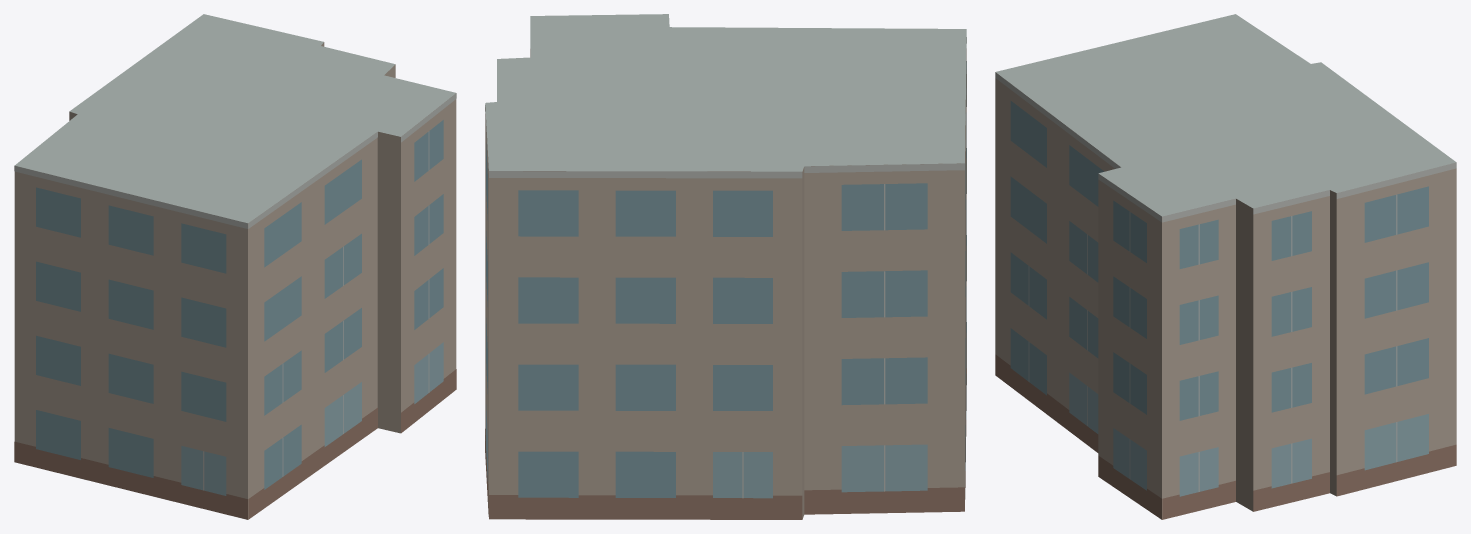
File: survey-upis-32981444.glb
The picture shows the model from 3 angles, left to right: view 1: azimuth 30°, elevation 25°; view 2: azimuth 150°, elevation 25°; view 3: azimuth 270°, elevation 25°; orthographic projection. The views are drawn at different scales.
Parts seen in each view (by area): view 1: survey-upis-32981444.tmp; view 2: survey-upis-32981444.tmp; view 3: survey-upis-32981444.tmp.
Part boxes in pixels (x1,y1,x2,y2): survey-upis-32981444.tmp: (14,14,456,519); survey-upis-32981444.tmp: (485,14,966,519); survey-upis-32981444.tmp: (995,14,1456,519).
Size of the model in its own units: 17.78 by 12.4 by 17.11.
